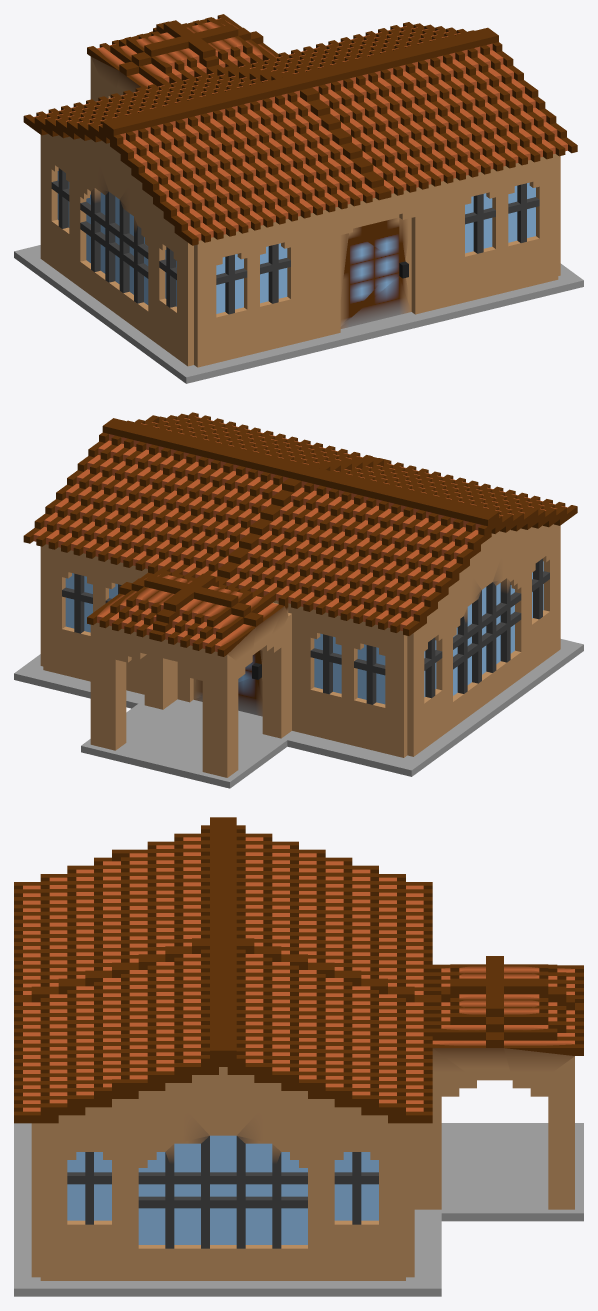
Rendered from obj_house5a.fbx.
3 renders of one model, top to bottom at view 1: azimuth 30°, elevation 25°; view 2: azimuth 150°, elevation 25°; view 3: azimuth 270°, elevation 25°, orthographic. The views are drawn at different scales.
Visible parts, largest first — view 1: obj_house5a; view 2: obj_house5a; view 3: obj_house5a.
Part boxes in pixels (x1,y1,x2,y2): obj_house5a: (14,14,583,383); obj_house5a: (14,412,583,788); obj_house5a: (14,817,583,1296).
Bounding box in the file's own units: 6.4 × 6.4 × 3.
Materials: 1 (1 with a texture image).
